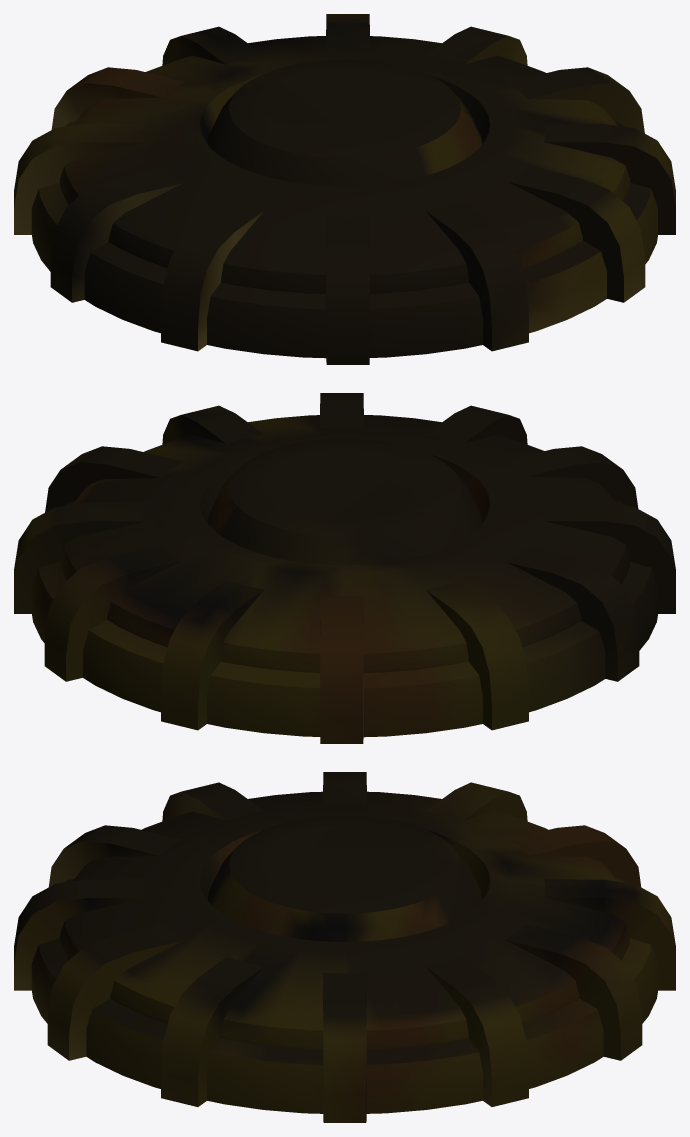
The model's file is LandMine.fbx.
The picture shows the model from 3 angles, top to bottom: view 1: azimuth 30°, elevation 25°; view 2: azimuth 150°, elevation 25°; view 3: azimuth 270°, elevation 25°; orthographic projection.
Visible parts, largest first — view 1: SM_LandMine_LOD0.mo; view 2: SM_LandMine_LOD0.mo; view 3: SM_LandMine_LOD0.mo.
Part boxes in pixels (x1=…): SM_LandMine_LOD0.mo: x1=14, y1=14, x2=675, y2=364; SM_LandMine_LOD0.mo: x1=14, y1=393, x2=675, y2=743; SM_LandMine_LOD0.mo: x1=14, y1=772, x2=675, y2=1122.
Size of the model in its own units: 59.52 by 12 by 59.52.
